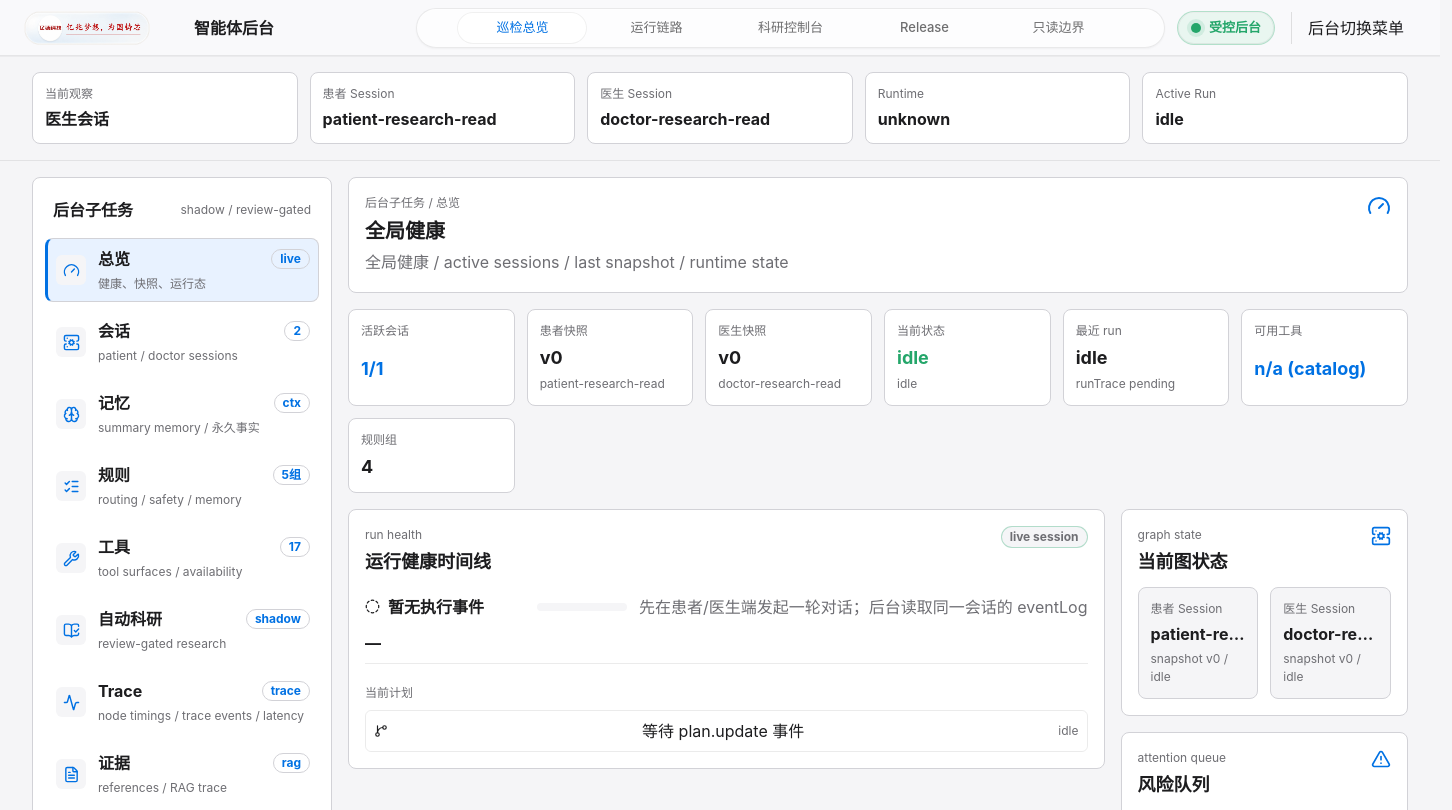
Test: AgentAdminView › loads the research console from literature and LearningJob runtime APIs
Click the button "自动科研 shadow review-gated research" at x=130, y=619, box [45,598,319,662]
(page scrolled)
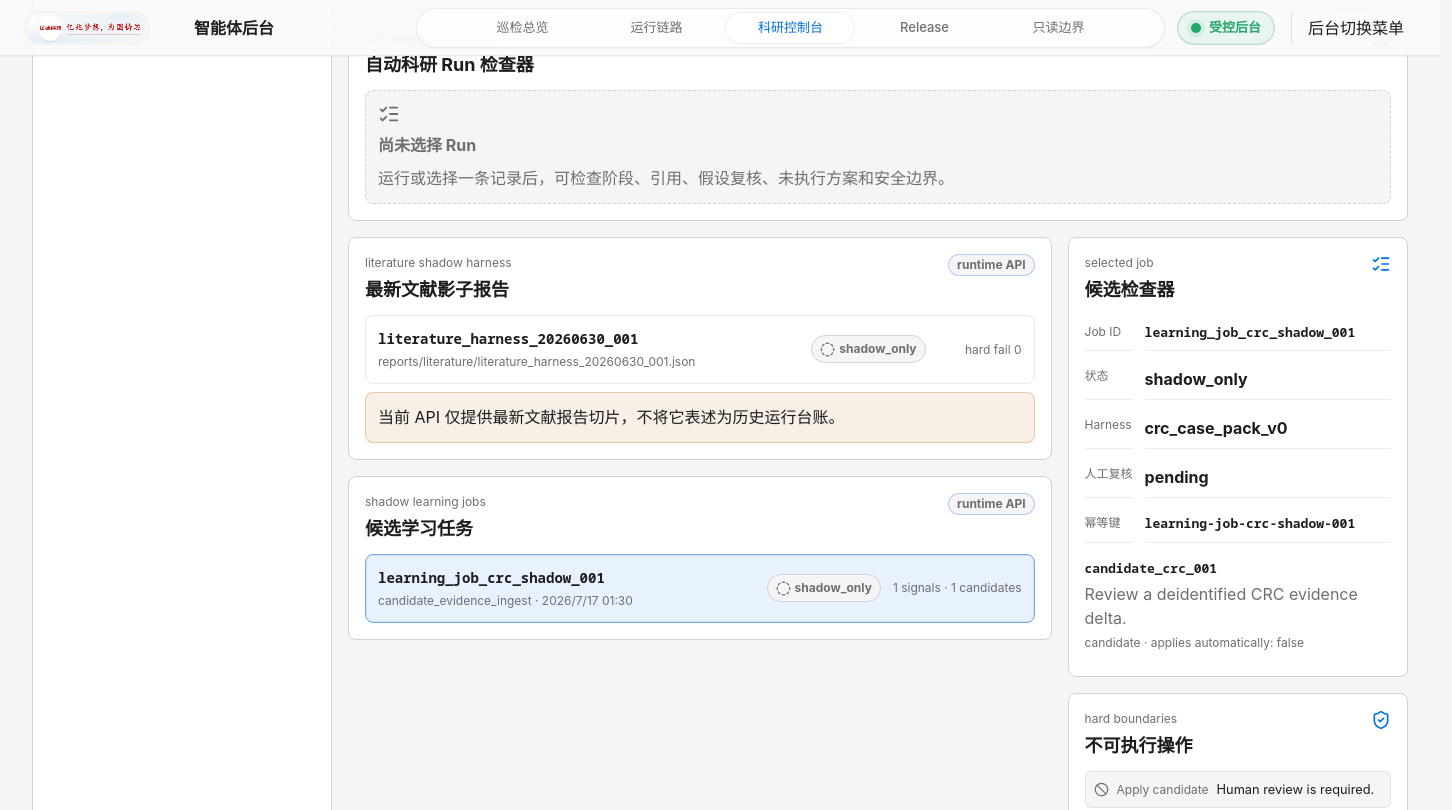
Expected: the text "learning_job_crc_shadow_001" below "候选学习任务" is shown, [378,568,605,587]
